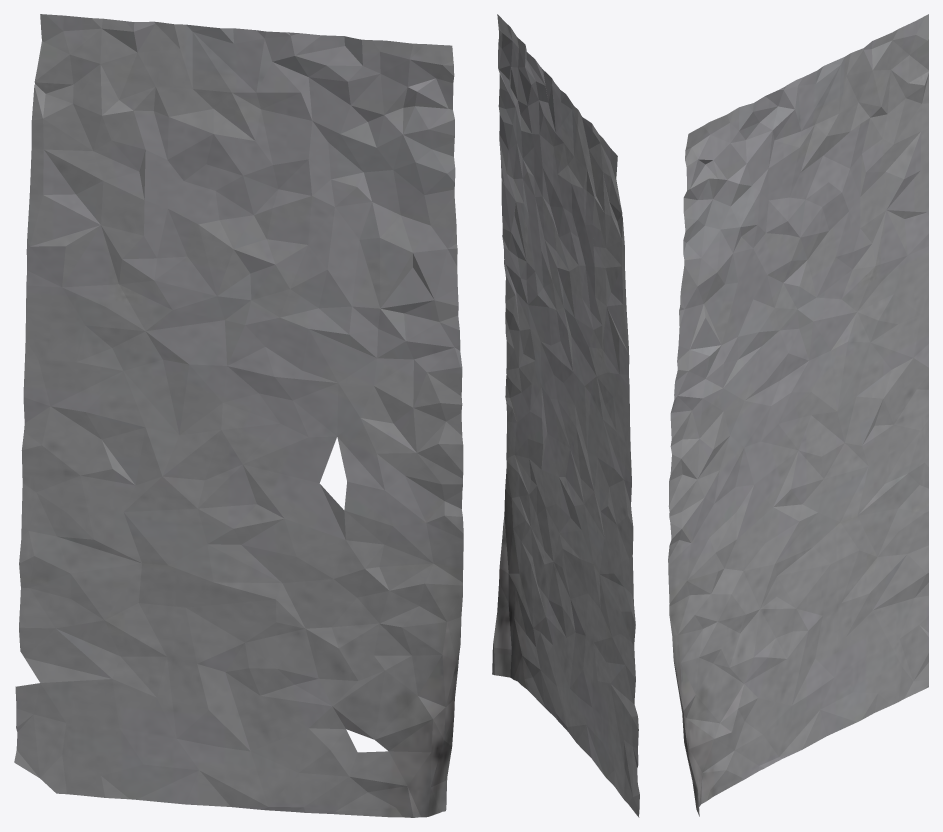
3 renders of one model, left to right at view 1: azimuth 30°, elevation 25°; view 2: azimuth 150°, elevation 25°; view 3: azimuth 270°, elevation 25°, orthographic. The views are drawn at different scales.
Bounding box in the file's own units: 0.3445 × 0.8374 × 0.2896.
Materials: 2 (2 with a texture image).
